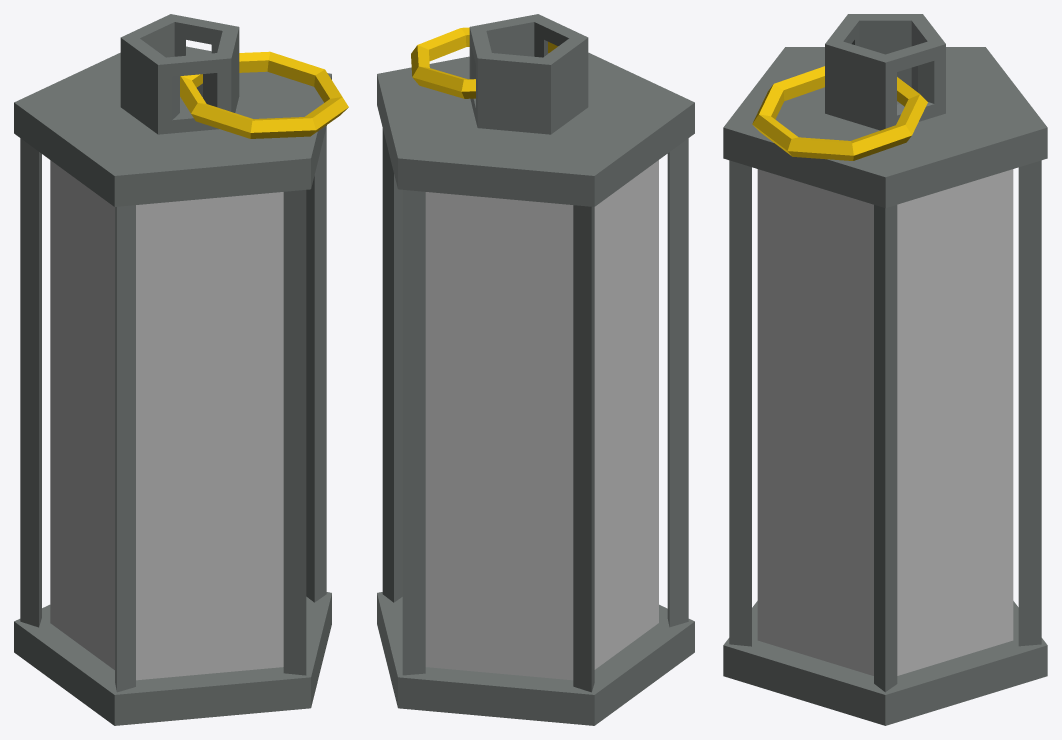
The model's file is Laterne.fbx.
3 renders of one model, left to right at view 1: azimuth 30°, elevation 25°; view 2: azimuth 150°, elevation 25°; view 3: azimuth 270°, elevation 25°, orthographic.
Parts seen in each view (by area): view 1: Torus_1; view 2: Torus_1; view 3: Torus_1.
Part boxes in pixels (<box>): Torus_1: <box>14,14,348,725</box>; Torus_1: <box>377,14,694,725</box>; Torus_1: <box>723,14,1047,725</box>.
Bounding box in the file's own units: 13.67 × 30.22 × 14.37.
